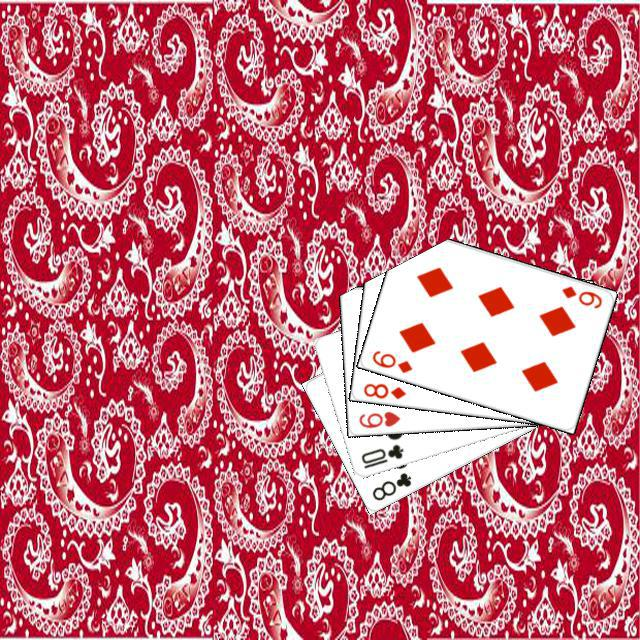10c: (356, 439, 405, 470)
6d: (367, 345, 414, 375), (557, 281, 604, 310)
6h: (354, 407, 402, 430)
8c: (367, 467, 413, 502)
8d: (359, 378, 407, 401)
